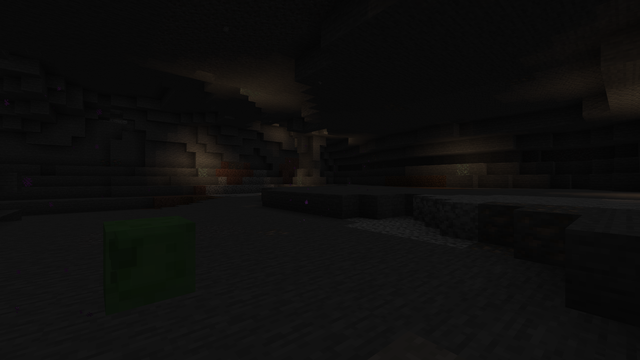slimes: (102, 213, 196, 317)
